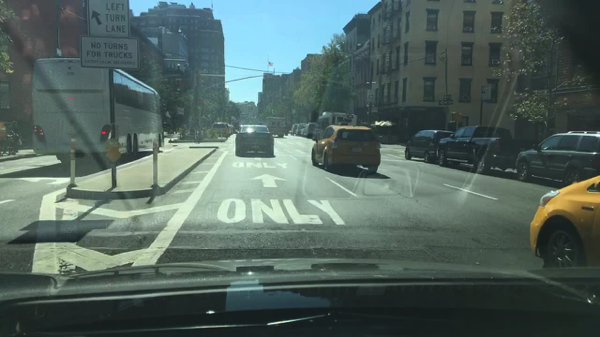bike: (0, 130, 21, 159), (1, 127, 22, 155)
bus: (27, 56, 165, 172)
car: (527, 171, 598, 271), (512, 129, 599, 188), (434, 124, 524, 176), (309, 125, 382, 176), (403, 129, 456, 167), (233, 123, 276, 157), (209, 122, 231, 140), (298, 121, 316, 140), (160, 120, 176, 136), (290, 123, 300, 136), (294, 123, 304, 136), (229, 123, 237, 133), (286, 127, 293, 136), (232, 126, 237, 133)
traffic light: (451, 111, 463, 124), (174, 78, 183, 95), (197, 100, 204, 111), (313, 88, 318, 97)
traffic sign: (79, 34, 141, 71), (82, 1, 132, 38), (481, 86, 492, 102), (367, 88, 376, 103), (439, 50, 447, 65), (54, 47, 64, 57), (438, 101, 454, 107), (175, 107, 186, 115), (441, 94, 453, 101), (364, 103, 377, 109), (364, 109, 379, 114), (319, 82, 329, 88)
truck: (312, 110, 359, 138), (264, 117, 286, 140)
